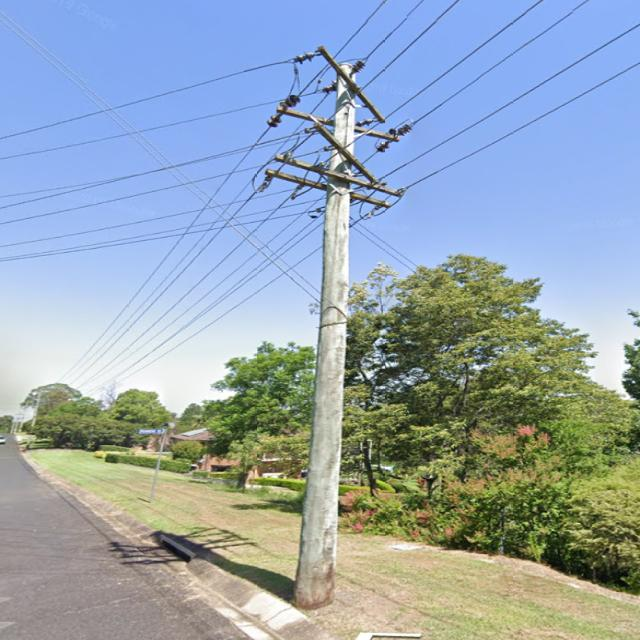HV-transmission: (267, 44, 414, 152)
crossarm: (274, 150, 402, 195), (315, 42, 382, 122), (262, 167, 390, 208), (274, 105, 398, 140)
timber-pole: (289, 64, 355, 608)
